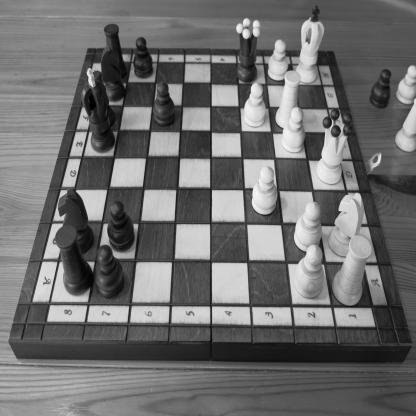black-bishop: (92, 70, 115, 127)
black-king: (81, 68, 115, 154)
black-knight: (58, 188, 94, 254), (100, 44, 126, 102)
black-pawn: (94, 244, 124, 299), (107, 200, 135, 253), (154, 81, 176, 127), (369, 68, 392, 109), (133, 36, 153, 79)
black-queen: (235, 17, 261, 83)
black-rook: (54, 225, 94, 296), (104, 23, 128, 80)
white-bishop: (394, 97, 415, 154)
white-king: (295, 5, 325, 84)
white-knight: (326, 194, 362, 262)
white-pawn: (294, 244, 324, 299), (293, 201, 322, 253), (251, 166, 278, 216), (281, 107, 305, 153), (243, 82, 266, 129), (395, 64, 415, 106), (270, 39, 288, 78)
white-queen: (316, 108, 352, 185)
white-rook: (331, 234, 372, 307), (275, 70, 301, 130)
